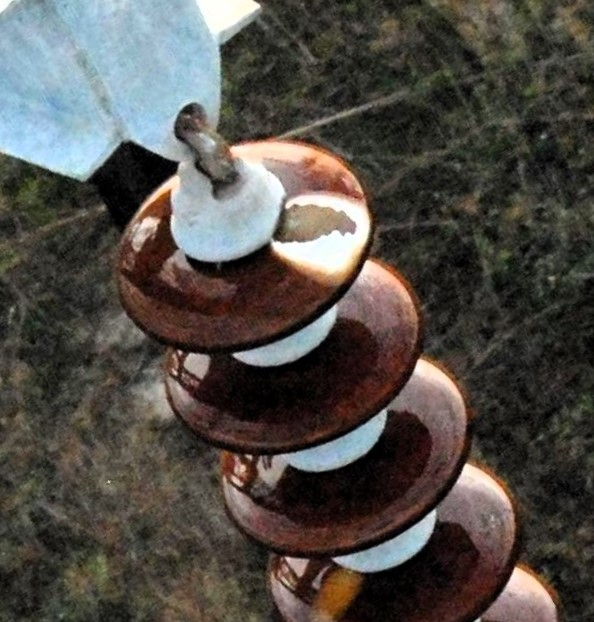Insulator flashover: (109, 128, 378, 356)
